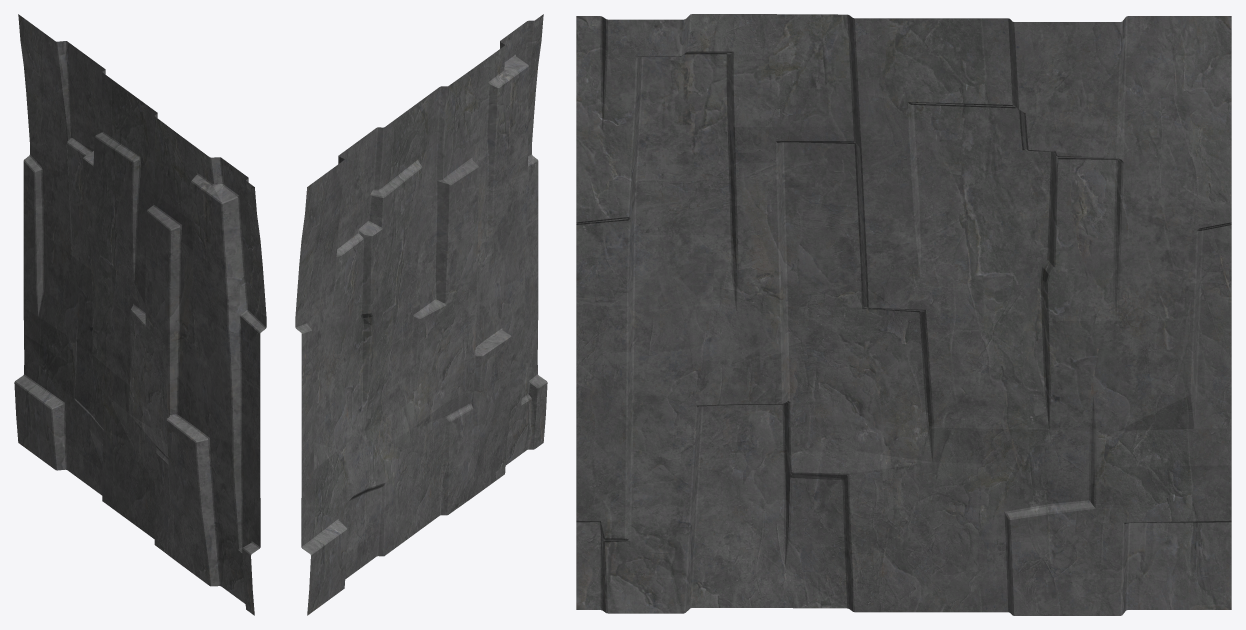
Rendered from CaveWallS.fbx.
3 views of the same model, side by side, from view 1: azimuth 30°, elevation 25°; view 2: azimuth 150°, elevation 25°; view 3: azimuth 270°, elevation 25° (orthographic). The views are drawn at different scales.
Parts seen in each view (by area): view 1: SM_ENV_NATURE_Cave_Wall_S_03.mo; view 2: SM_ENV_NATURE_Cave_Wall_S_03.mo; view 3: SM_ENV_NATURE_Cave_Wall_S_03.mo.
Boxes of the visible parts, x1,y1,x2,y2 form: SM_ENV_NATURE_Cave_Wall_S_03.mo: (14,14,266,615); SM_ENV_NATURE_Cave_Wall_S_03.mo: (295,14,547,615); SM_ENV_NATURE_Cave_Wall_S_03.mo: (576,14,1231,615).
Bounding box in the file's own units: 52.19 × 820 × 820.
Materials: 1 (1 with a texture image).
